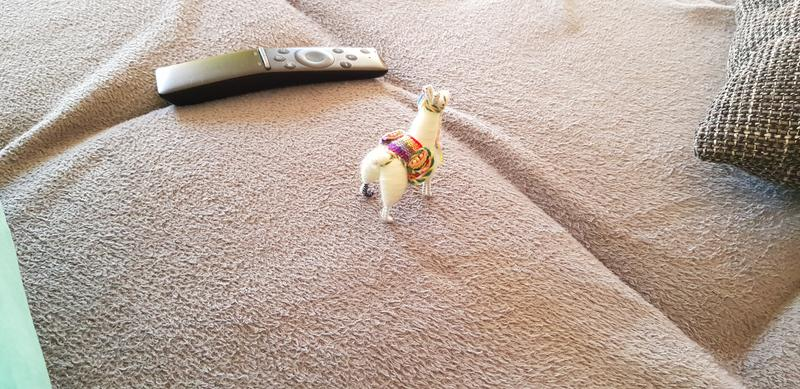Horse-Toy: (346, 86, 467, 226)
